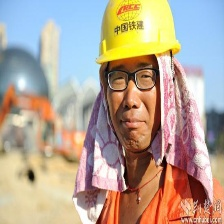helmet: (94, 2, 183, 65)
person: (75, 1, 217, 224)
